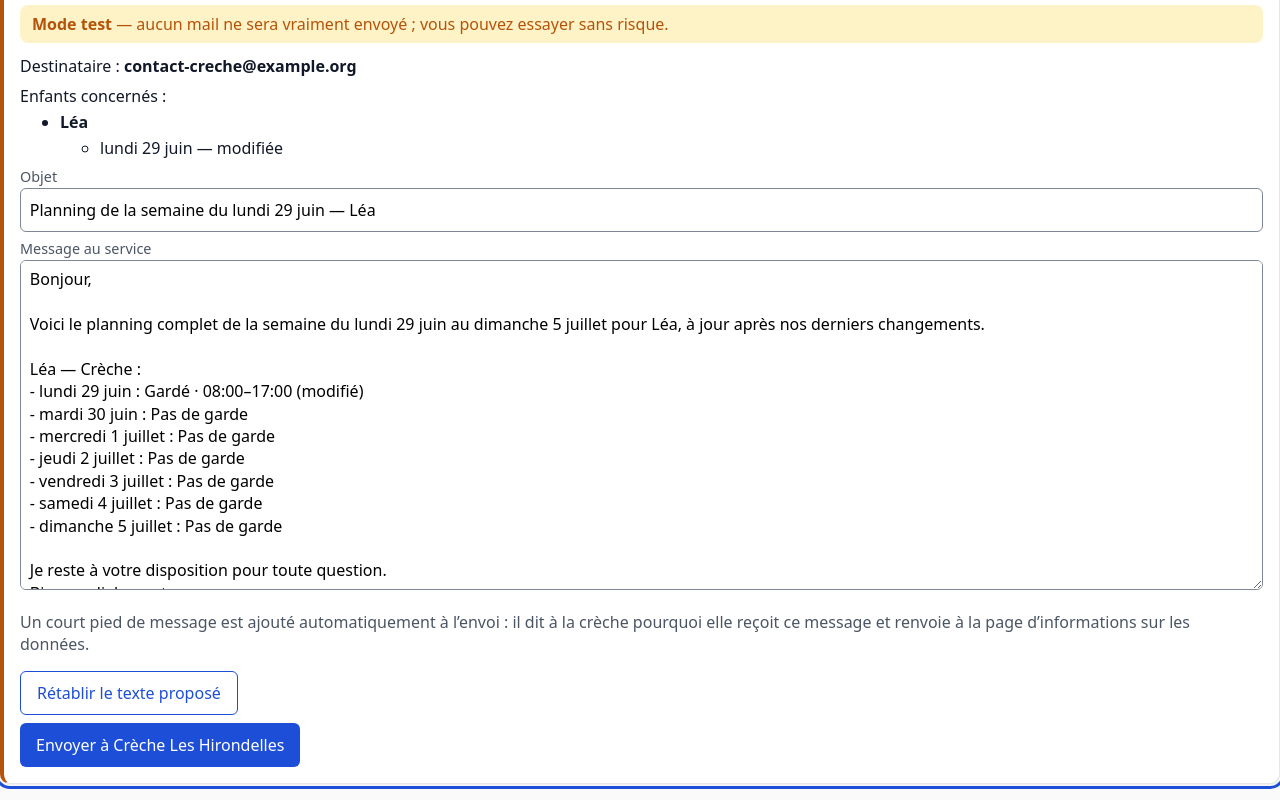
Test: RelectureEnvoi (agrégé par établissement) › signale l’échec de l’envoi
(page scrolled)
Click the button with aria-label "Envoyer le récapitulatif à Crèche Les Hirondelles" at [160, 745], box [20,723,300,767]
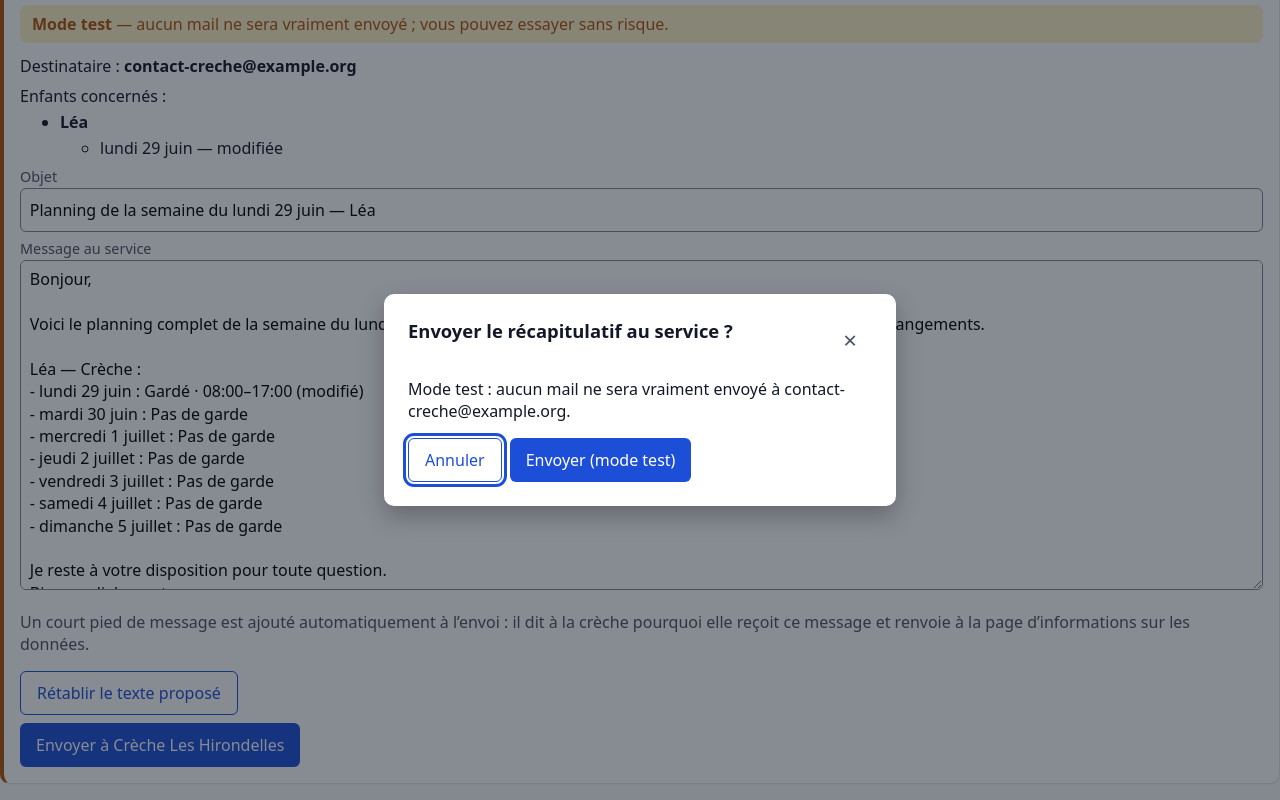
Click the button "Envoyer (mode test)" at [601, 460], box [510,438,691,482]
(page scrolled)
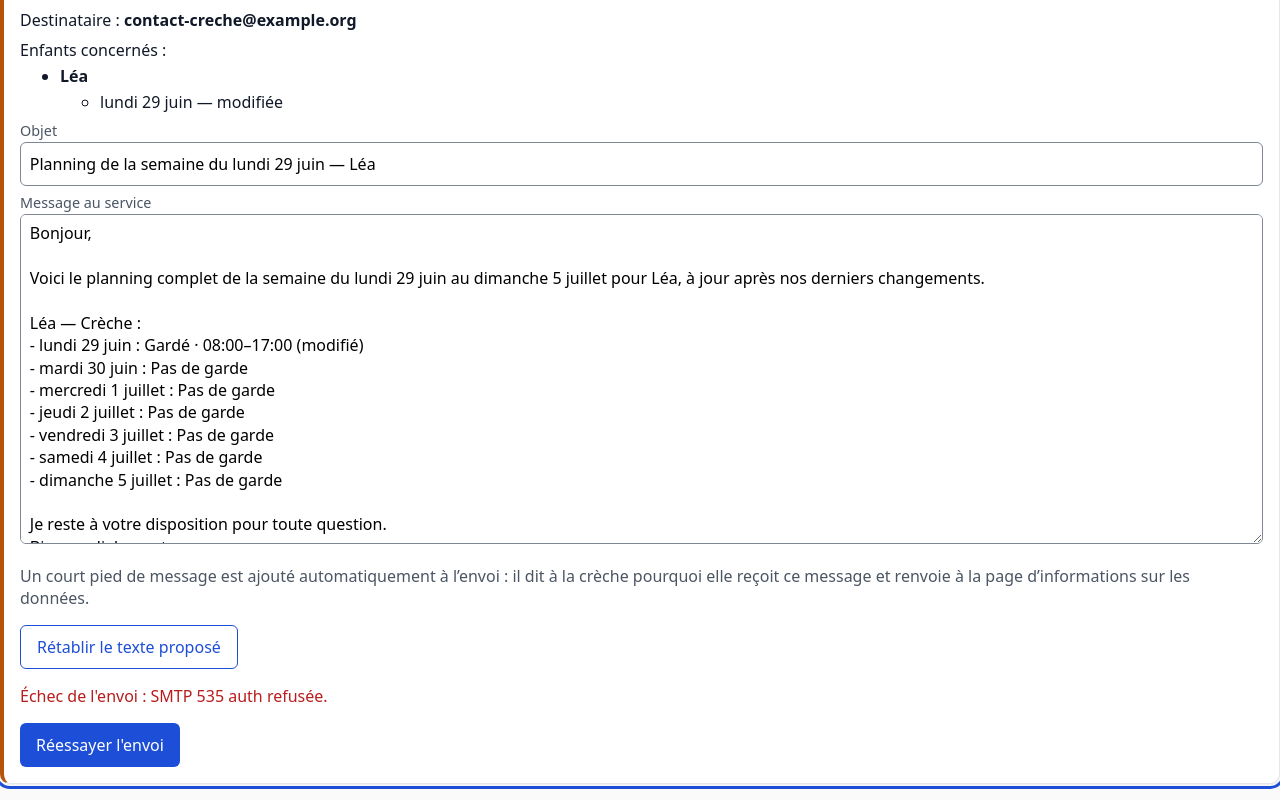
Expected: the button with aria-label "Envoyer le récapitulatif à Crèche Les Hirondelles" is enabled, [20,723,180,767]
Expected: the message shows "SMTP 535", [20,685,328,707]
Expected: the button with aria-label "Envoyer le récapitulatif à Crèche Les Hirondelles" reads "Réessayer l'envoi", [20,723,180,767]
